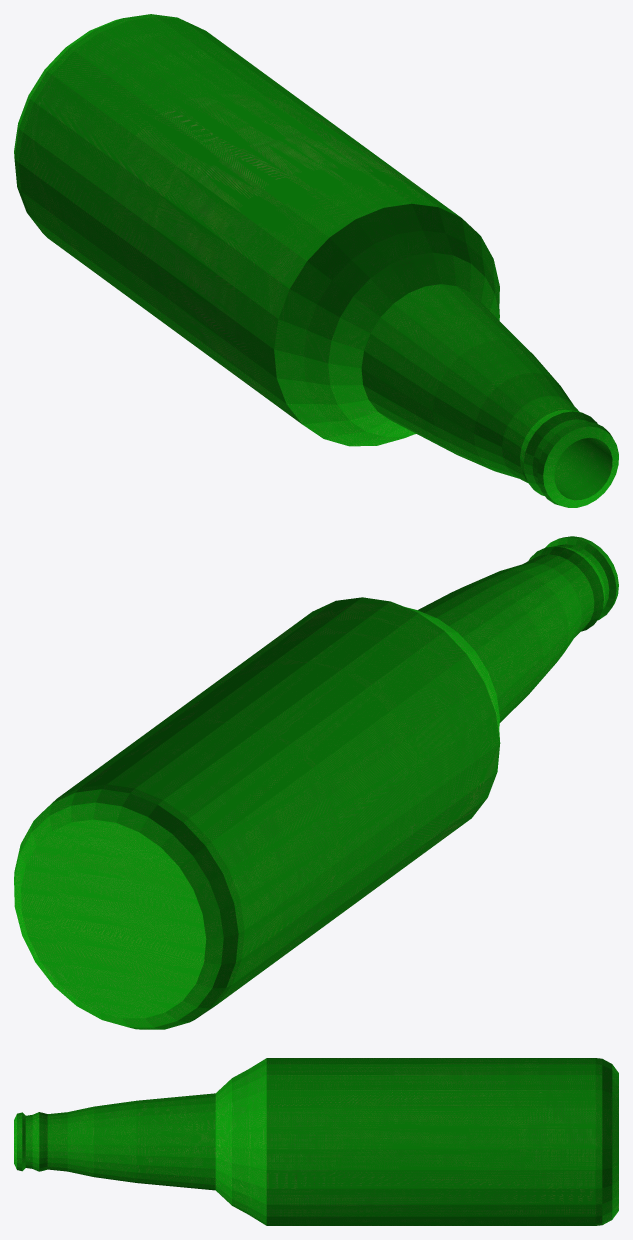
File: model_align.obj
3 views of the same model, one above another, from view 1: azimuth 30°, elevation 25°; view 2: azimuth 150°, elevation 25°; view 3: azimuth 270°, elevation 25° (orthographic). The views are drawn at different scales.
Parts seen in each view (by area): view 1: mesh1_mesh1-geometry; view 2: mesh1_mesh1-geometry; view 3: mesh1_mesh1-geometry.
Boxes of the visible parts, x1,y1,x2,y2 form: mesh1_mesh1-geometry: (14,14,618,507); mesh1_mesh1-geometry: (14,536,618,1029); mesh1_mesh1-geometry: (14,1058,618,1225).
Bounding box in the file's own units: 0.0699 × 0.0699 × 0.2519.
